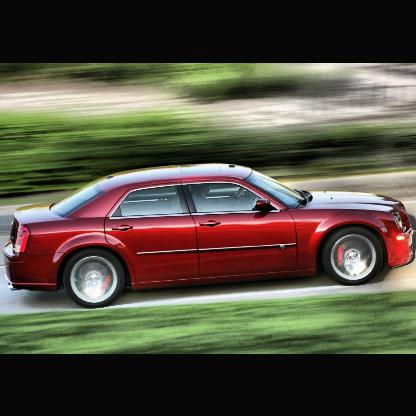Chrysler 300 SRT-8 2010: (4, 151, 416, 326)
